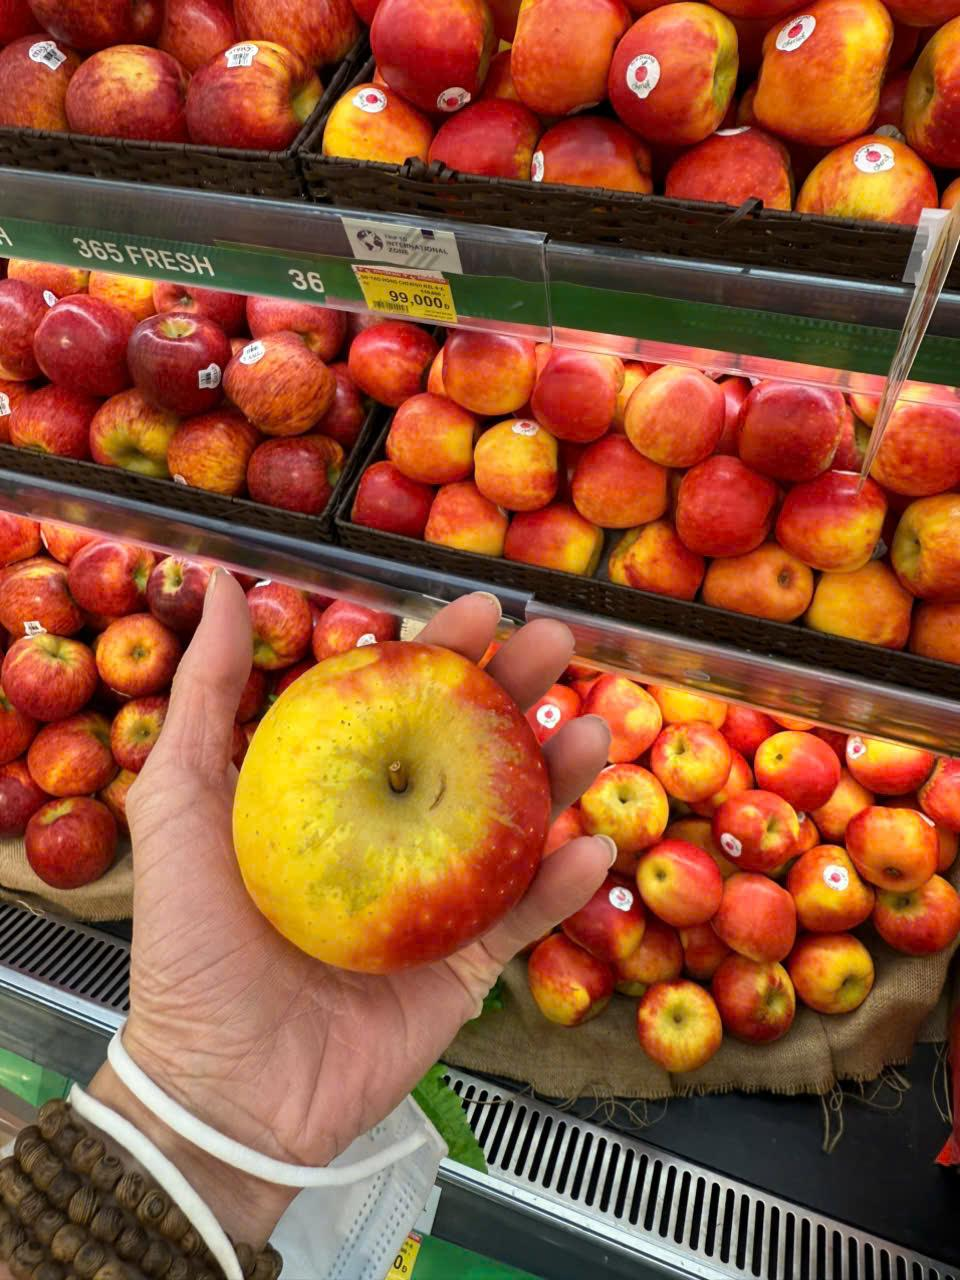apple: (215, 633, 556, 1014), (747, 5, 902, 138), (603, 0, 736, 130), (179, 35, 322, 145), (372, 0, 496, 114), (678, 135, 806, 238), (52, 40, 177, 143), (625, 353, 732, 468), (810, 148, 948, 236), (781, 461, 881, 580), (223, 326, 330, 431), (560, 435, 676, 530), (635, 836, 724, 955), (27, 295, 136, 392), (512, 3, 616, 104), (430, 96, 539, 187), (670, 456, 777, 547), (323, 66, 426, 161), (815, 558, 924, 648), (737, 383, 848, 470), (130, 313, 228, 411), (627, 976, 726, 1072), (530, 351, 633, 443), (550, 121, 659, 206), (875, 383, 960, 490), (845, 795, 938, 892), (882, 491, 960, 602), (387, 388, 480, 478), (250, 435, 340, 526), (752, 723, 840, 809), (652, 716, 730, 806), (725, 545, 814, 624), (720, 785, 806, 866), (445, 331, 529, 411), (515, 503, 604, 580), (720, 876, 798, 955), (355, 456, 422, 543), (175, 413, 244, 496), (85, 395, 167, 462), (473, 415, 562, 476), (12, 393, 82, 470), (433, 486, 506, 557), (612, 530, 706, 582)
